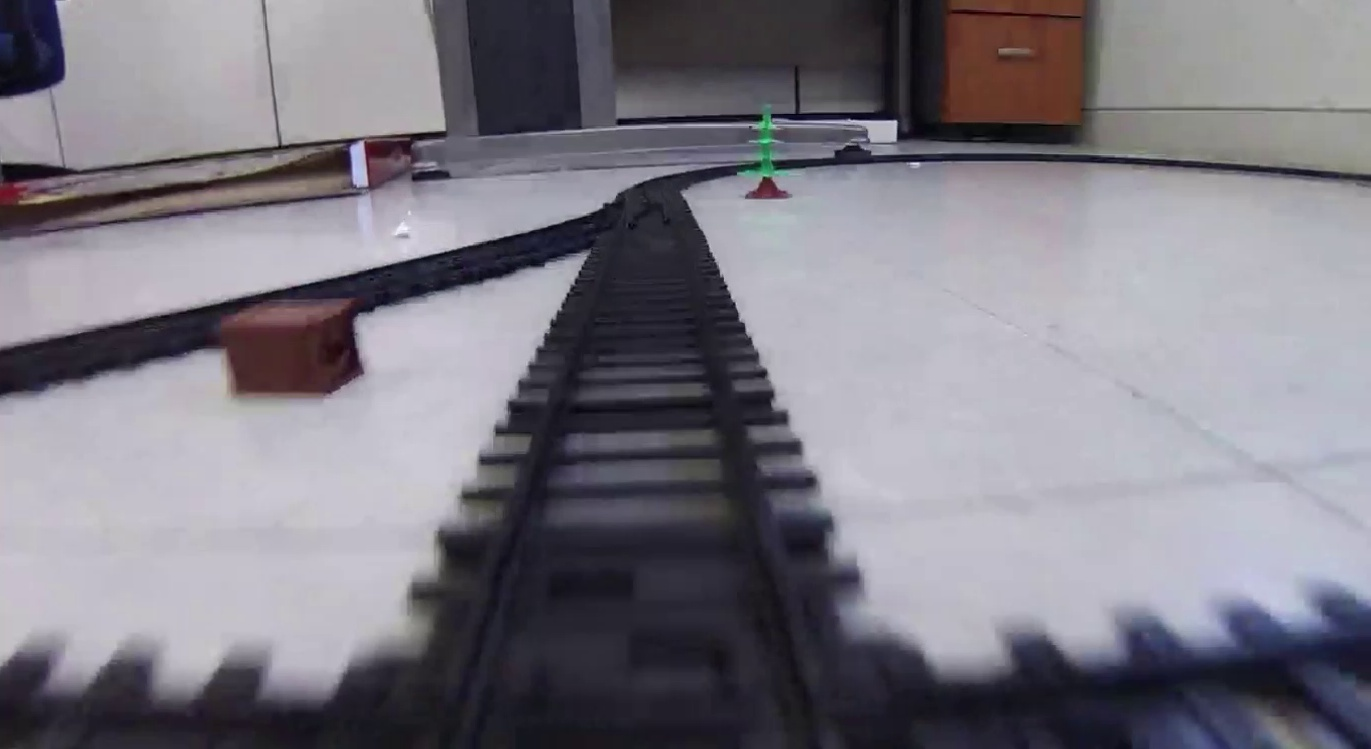box: (218, 295, 362, 399)
tree: (738, 103, 794, 200)
